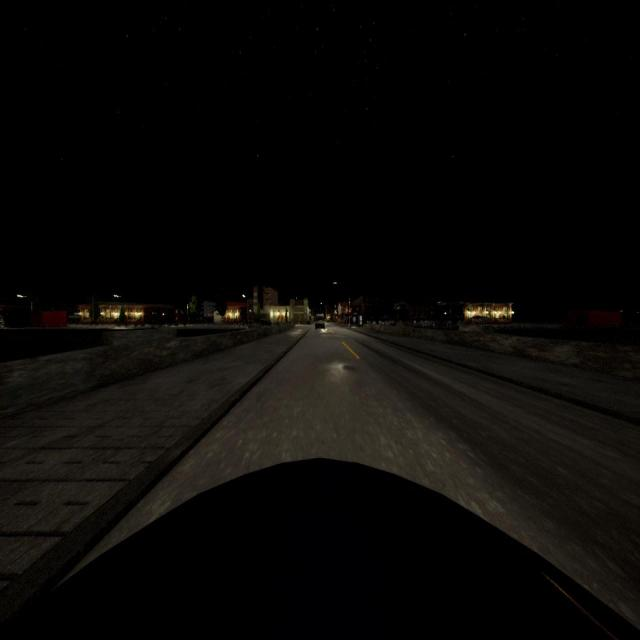Vehicle: (0, 455, 640, 640), (315, 313, 325, 330)
traffic_light: (348, 309, 351, 315)
